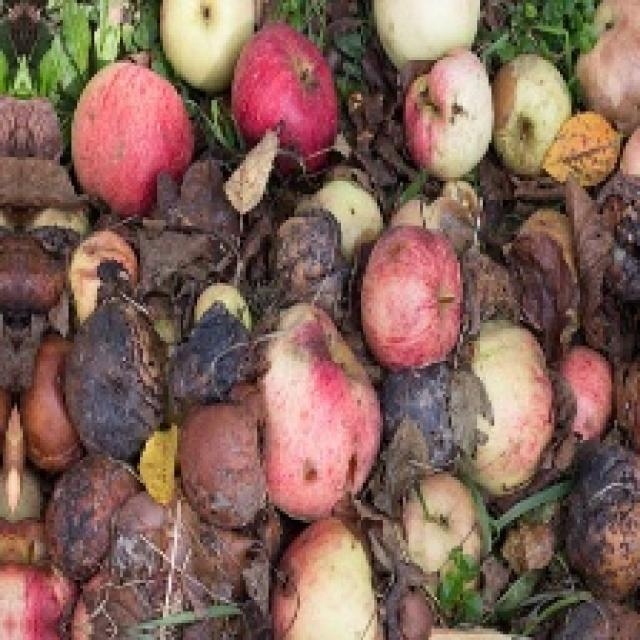rotten_apple: (270, 308, 378, 510), (67, 304, 165, 445), (239, 25, 339, 160), (273, 520, 378, 636), (408, 54, 493, 175), (180, 407, 266, 523), (571, 452, 640, 595), (49, 457, 127, 568), (494, 57, 572, 168)
